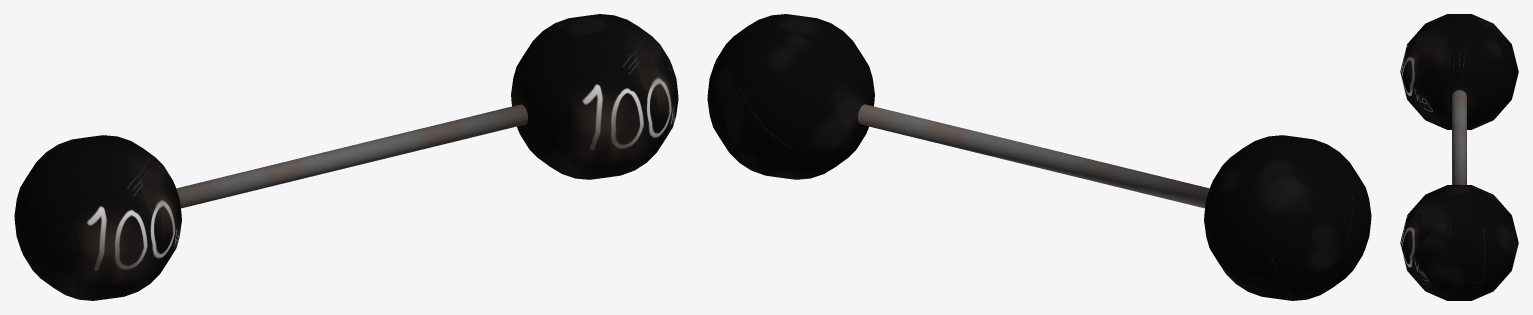
Rendered from painot.fbx.
3 views of the same model, side by side, from view 1: azimuth 30°, elevation 25°; view 2: azimuth 150°, elevation 25°; view 3: azimuth 270°, elevation 25° (orthographic). The views are drawn at different scales.
Parts seen in each view (by area): view 1: painot; view 2: painot; view 3: painot.
Part boxes in pixels (x1,y1,x2,y2): painot: [14, 14, 678, 300]; painot: [707, 14, 1371, 300]; painot: [1400, 14, 1518, 300].
Bounding box in the file's own units: 424 × 93.59 × 96.
Materials: 1 (1 with a texture image).
